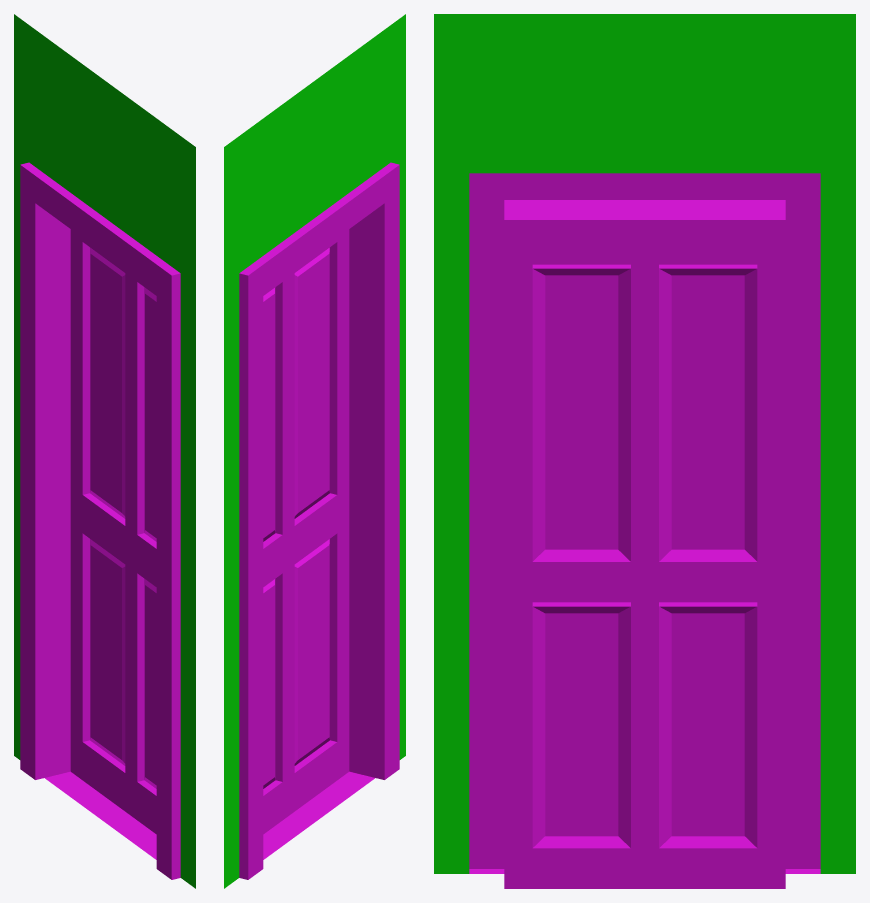
Rendered from Muro_Porta.fbx.
The picture shows the model from 3 angles, left to right: view 1: azimuth 30°, elevation 25°; view 2: azimuth 150°, elevation 25°; view 3: azimuth 270°, elevation 25°; orthographic projection. The views are drawn at different scales.
Visible parts, largest first — view 1: Plane.001; view 2: Plane.001; view 3: Plane.001.
Boxes of the visible parts, box(x1,y1,x2,y2) form: Plane.001: box(14, 14, 195, 888); Plane.001: box(224, 14, 405, 888); Plane.001: box(434, 14, 855, 888).
Bounding box in the file's own units: 16.14 × 270 × 120.
